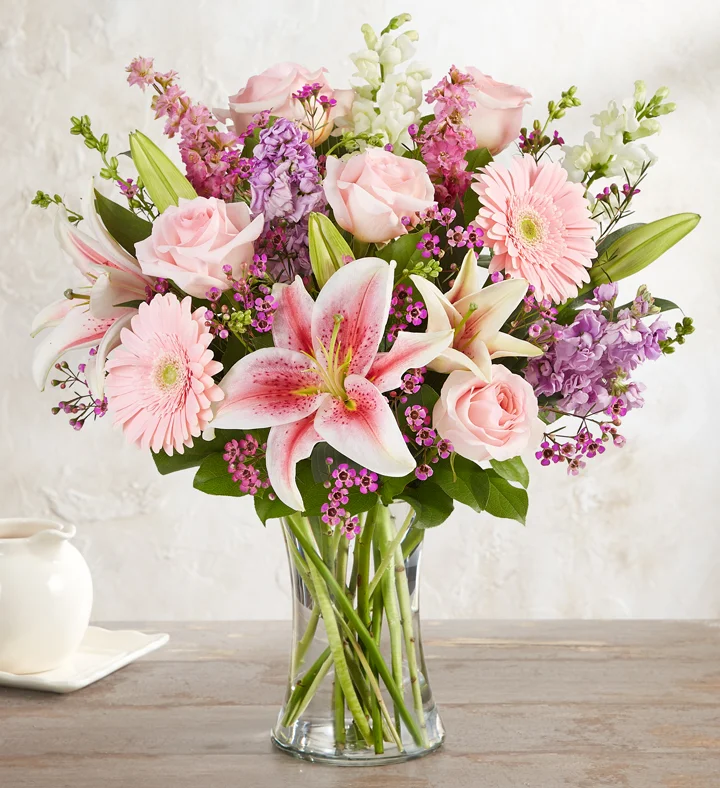Pink: (223, 277, 451, 502), (104, 295, 217, 456), (478, 160, 597, 302), (131, 193, 266, 292), (444, 54, 530, 159), (233, 62, 339, 141), (155, 104, 200, 140), (123, 54, 161, 90)
White: (31, 198, 138, 406), (441, 371, 546, 475), (347, 18, 429, 150), (324, 154, 443, 236), (584, 89, 656, 185)
